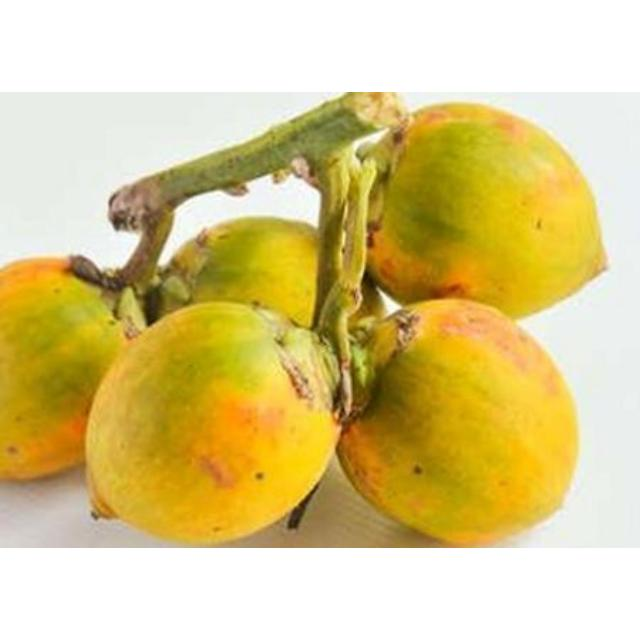good: (84, 301, 367, 547), (337, 298, 582, 547), (366, 101, 612, 322), (0, 257, 127, 485)
